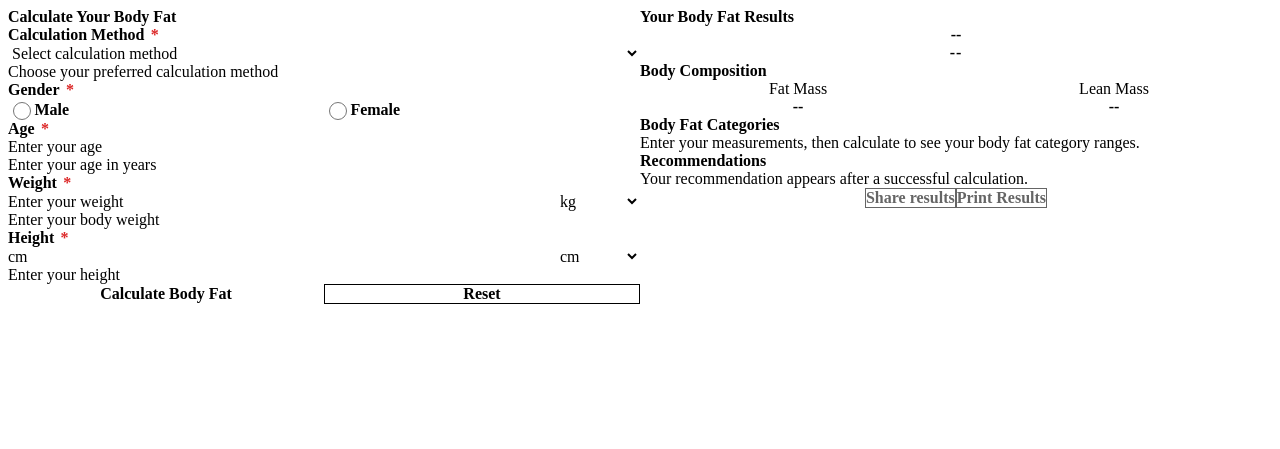
Scenario: BodyFatCalculator › computes the source US Navy example end-to-end
Select "US Navy Method" in the dropdown labelled "Calculation Method" at (324, 54), box [8, 44, 640, 63]
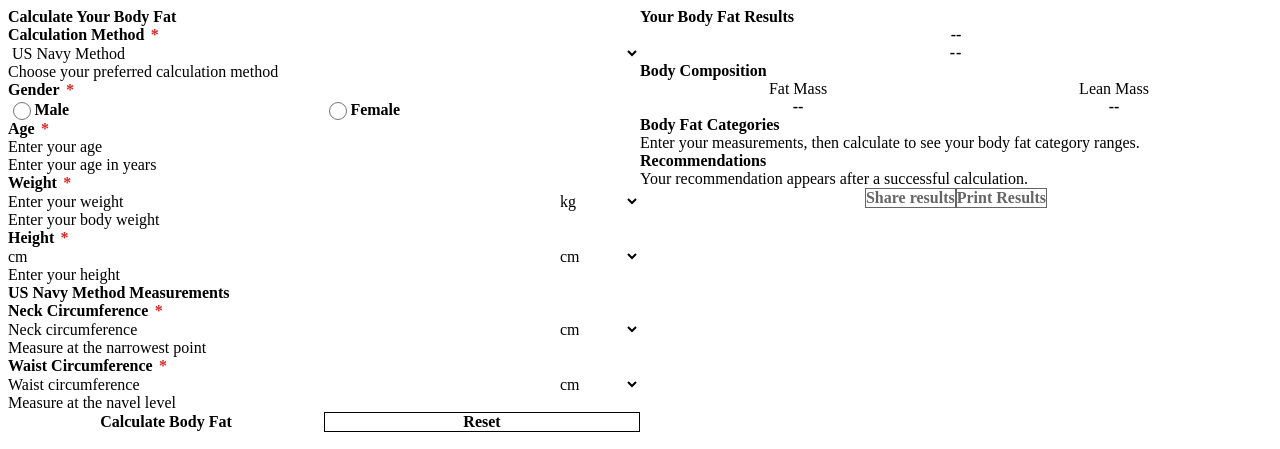
Click the radio button labelled "Male".
click(22, 111)  # box [13, 102, 31, 120]
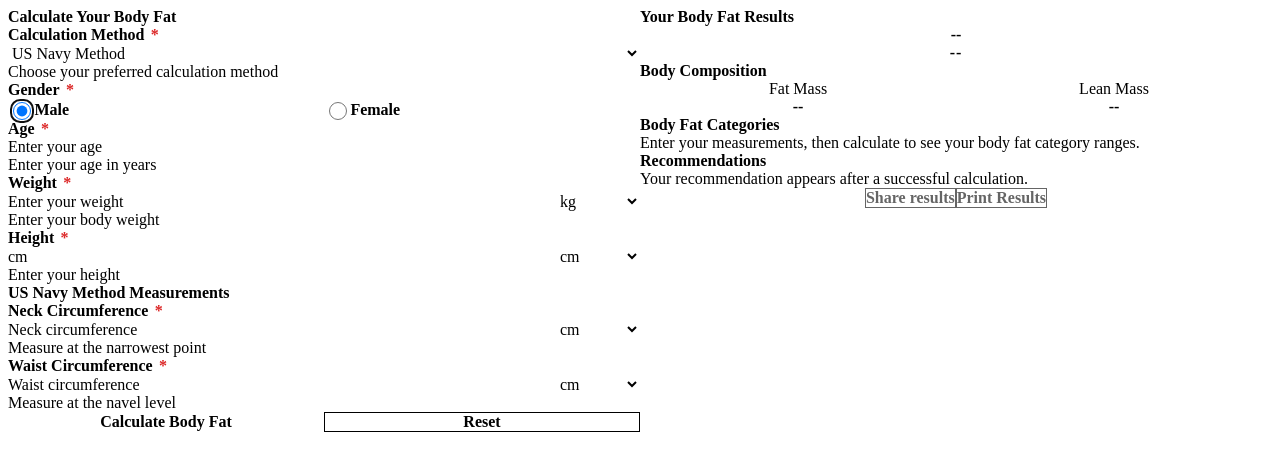
Type "30" into the number field labelled "Age".
click(324, 147); type("30")  # box [8, 138, 640, 156]
Type "80" into the number field labelled "weight".
click(282, 202); type("80")  # box [8, 192, 556, 211]
Type "180" into the number field named "Height".
click(282, 257); type("180")  # box [8, 247, 556, 266]
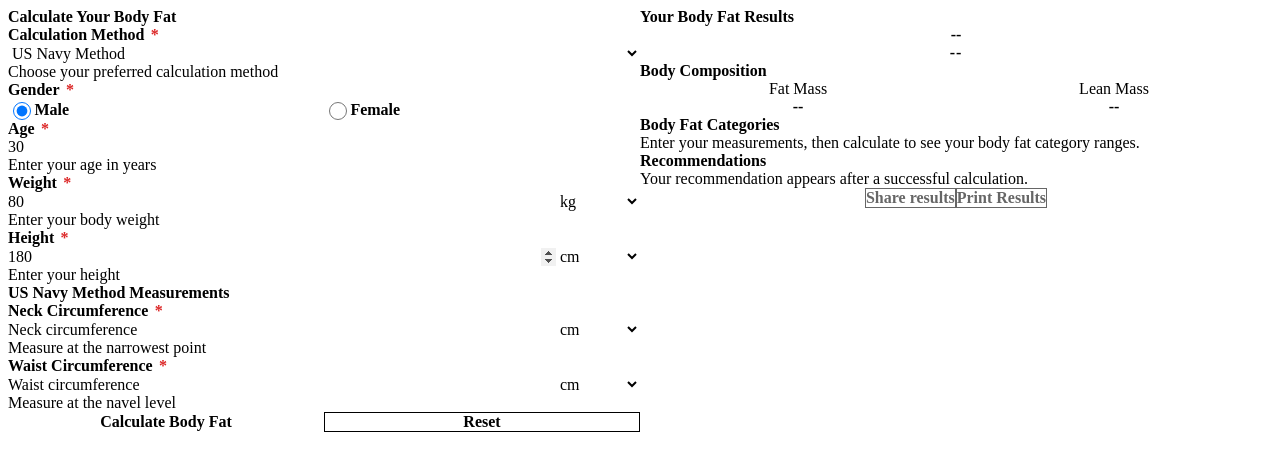
Type "38" into the number field labelled "Neck circumference".
click(282, 330); type("38")  # box [8, 320, 556, 339]
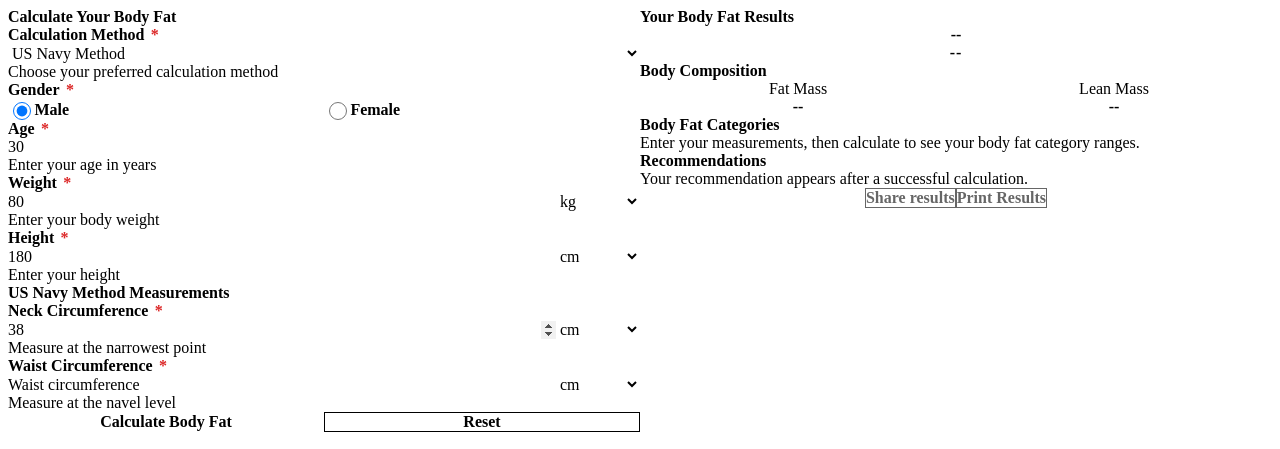
Type "90" into the number field labelled "Waist circumference".
click(282, 385); type("90")  # box [8, 375, 556, 394]
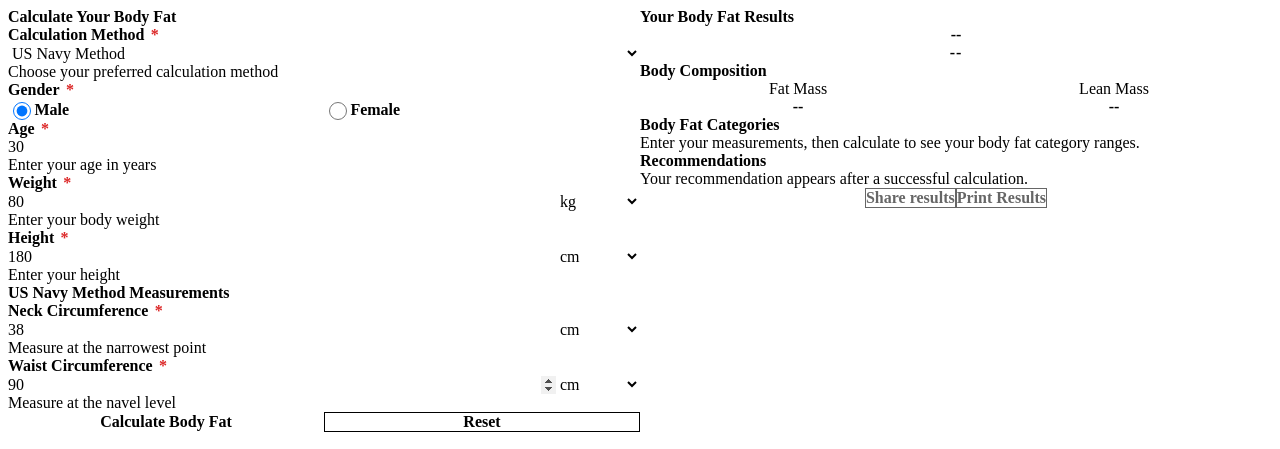
Click the button "Calculate Body Fat".
click(166, 422)  # box [8, 412, 324, 432]
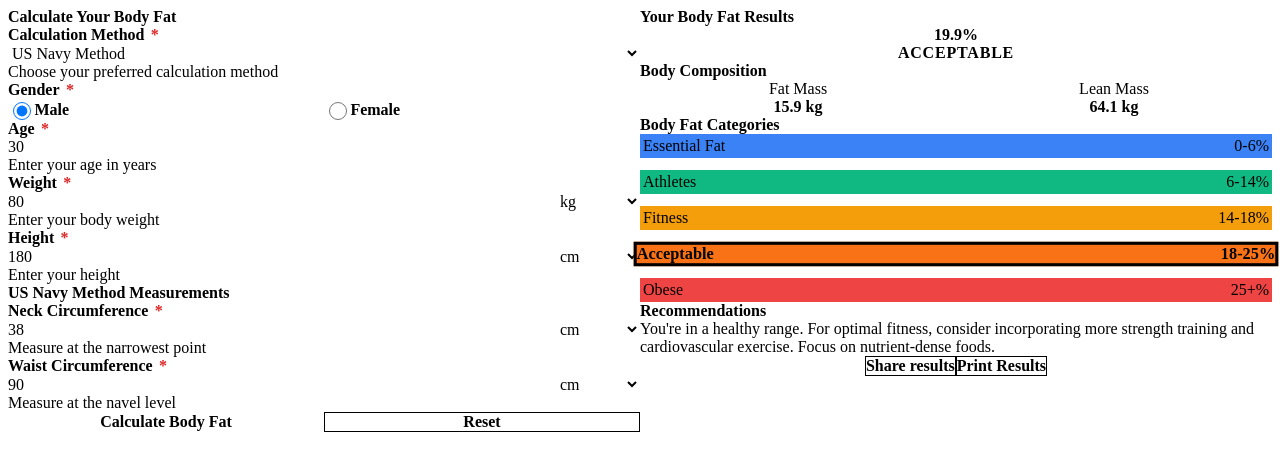
Now the element "Your Body Fat Results" shows "19.9%", box [934, 26, 978, 43]
Now the element "Your Body Fat Results" shows "Acceptable", box [898, 44, 1014, 61]
Now the element "Your Body Fat Results" shows "15.9 kg", box [774, 98, 822, 115]
